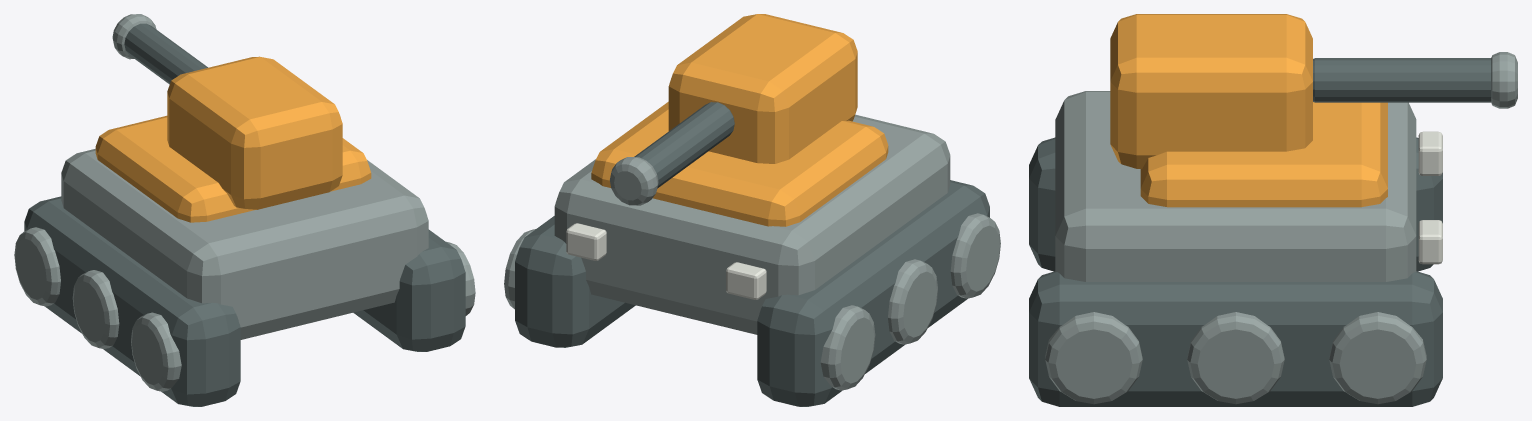
The model's file is apc.glb.
3 renders of one model, left to right at view 1: azimuth 30°, elevation 25°; view 2: azimuth 150°, elevation 25°; view 3: azimuth 270°, elevation 25°, orthographic. The views are drawn at different scales.
Visible parts, largest first — view 1: Armored hull, Turret, Track housing, Orange armor, Track housing.001, Road wheel, Road wheel.002, Road wheel.001, Gun barrel, Muzzle rim, Road wheel.003; view 2: Armored hull, Turret, Track housing, Orange armor, Track housing.001, Gun barrel, Road wheel.002, Road wheel, Road wheel.001, Muzzle rim, Headlight.001, Headlight (+1 smaller); view 3: Armored hull, Track housing.001, Turret, Orange armor, Gun barrel, Road wheel.003, Road wheel.005, Road wheel.004, Track housing, Muzzle rim, Headlight.001, Headlight.
Part boxes in pixels (box(x1,y1,x2,y2)): Armored hull: box(61, 148, 428, 339); Turret: box(167, 56, 342, 209); Track housing: box(24, 196, 240, 406); Orange armor: box(95, 115, 371, 222); Track housing.001: box(353, 229, 465, 351); Road wheel: box(131, 312, 181, 391); Road wheel.002: box(14, 227, 60, 306); Road wheel.001: box(72, 270, 119, 348); Gun barrel: box(124, 23, 207, 84); Muzzle rim: box(112, 14, 156, 59); Road wheel.003: box(446, 241, 475, 315); Armored hull: box(554, 114, 950, 334); Turret: box(668, 14, 857, 163); Track housing: box(757, 180, 989, 406); Orange armor: box(591, 101, 888, 226); Track housing.001: box(515, 216, 635, 347); Gun barrel: box(634, 102, 734, 188); Road wheel.002: box(820, 305, 875, 390); Road wheel: box(950, 213, 1000, 298); Road wheel.001: box(888, 259, 937, 344); Muzzle rim: box(609, 157, 658, 205); Headlight.001: box(566, 223, 606, 260); Headlight: box(726, 262, 766, 299); Armored hull: box(1055, 91, 1416, 281); Track housing.001: box(1029, 271, 1442, 406); Turret: box(1110, 14, 1312, 168); Orange armor: box(1140, 102, 1387, 207); Gun barrel: box(1313, 58, 1491, 102); Road wheel.003: box(1045, 312, 1142, 404); Road wheel.005: box(1329, 312, 1426, 404); Road wheel.004: box(1187, 312, 1284, 404); Track housing: box(1029, 137, 1442, 271); Muzzle rim: box(1491, 52, 1517, 108); Headlight.001: box(1418, 220, 1442, 264); Headlight: box(1418, 131, 1442, 175).
Bounding box in the file's own units: 1.08 × 0.805 × 1.21.
